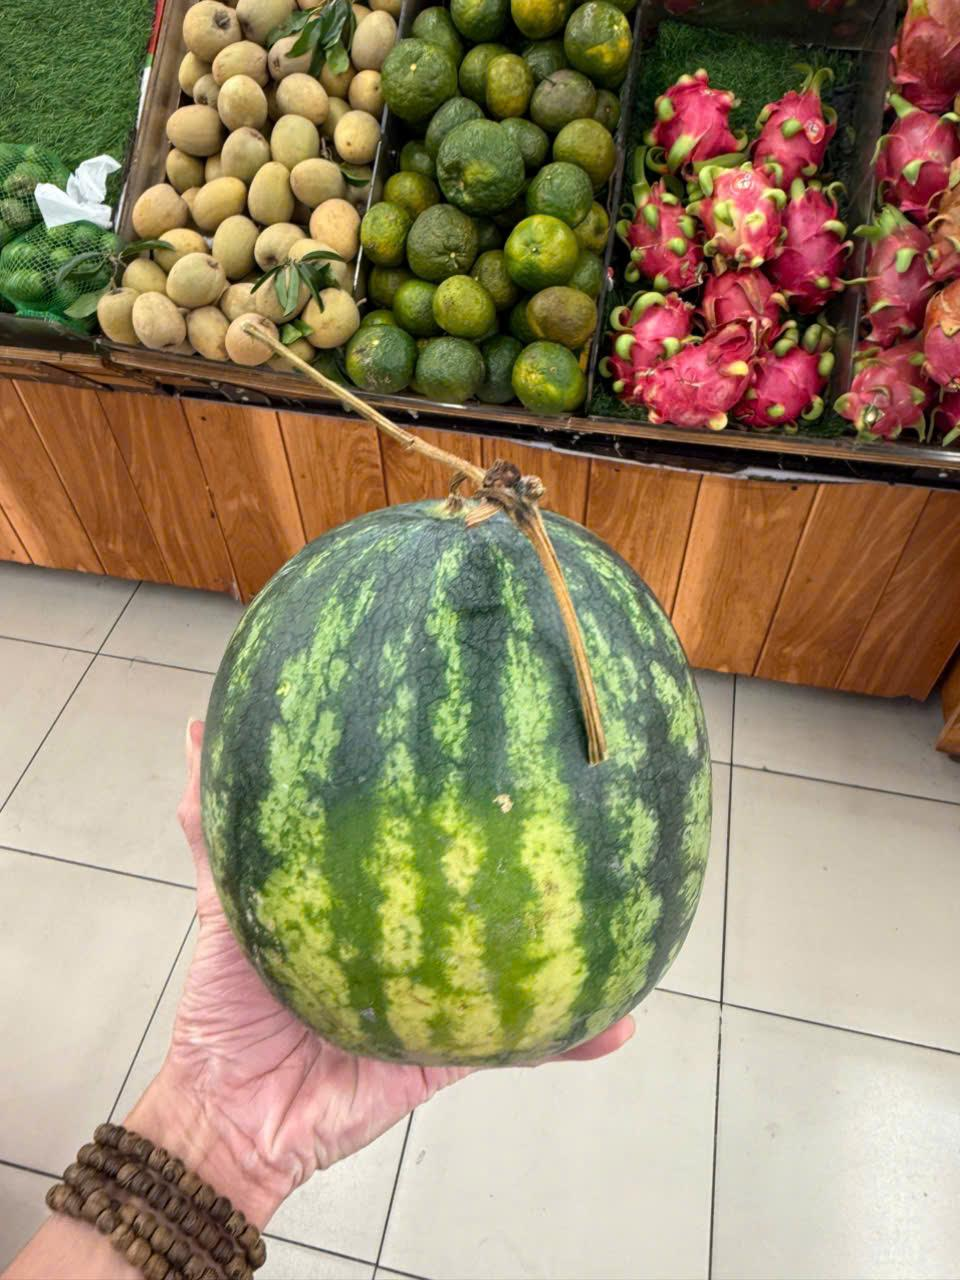watermelon: (190, 486, 726, 1085)
